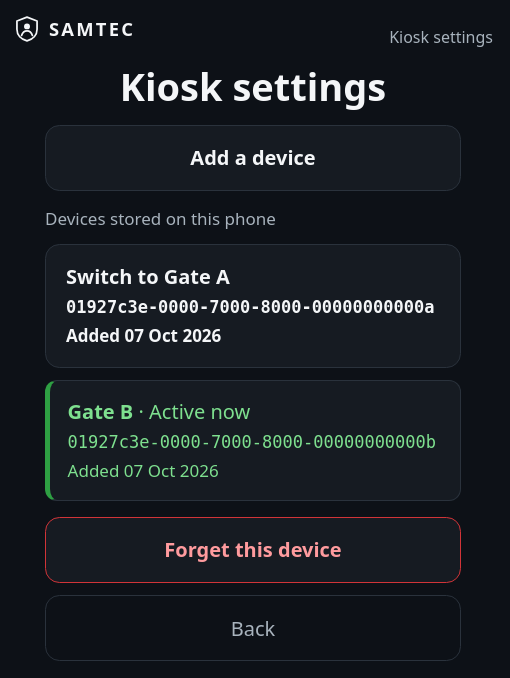
Test: KioskSettingsScreen › switches the active device on tap, and tells the app
Step 1. Click the button "Switch to Gate A" → x=253, y=306, box top-left (45, 244), bottom-right (461, 368)
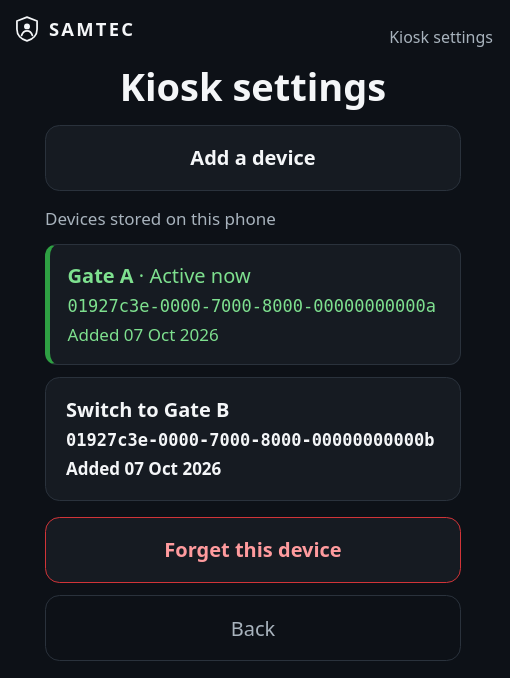
Now the button "Switch to Gate B" is shown, box top-left (45, 377), bottom-right (461, 501)
Now the button "Switch to Gate A" is gone
